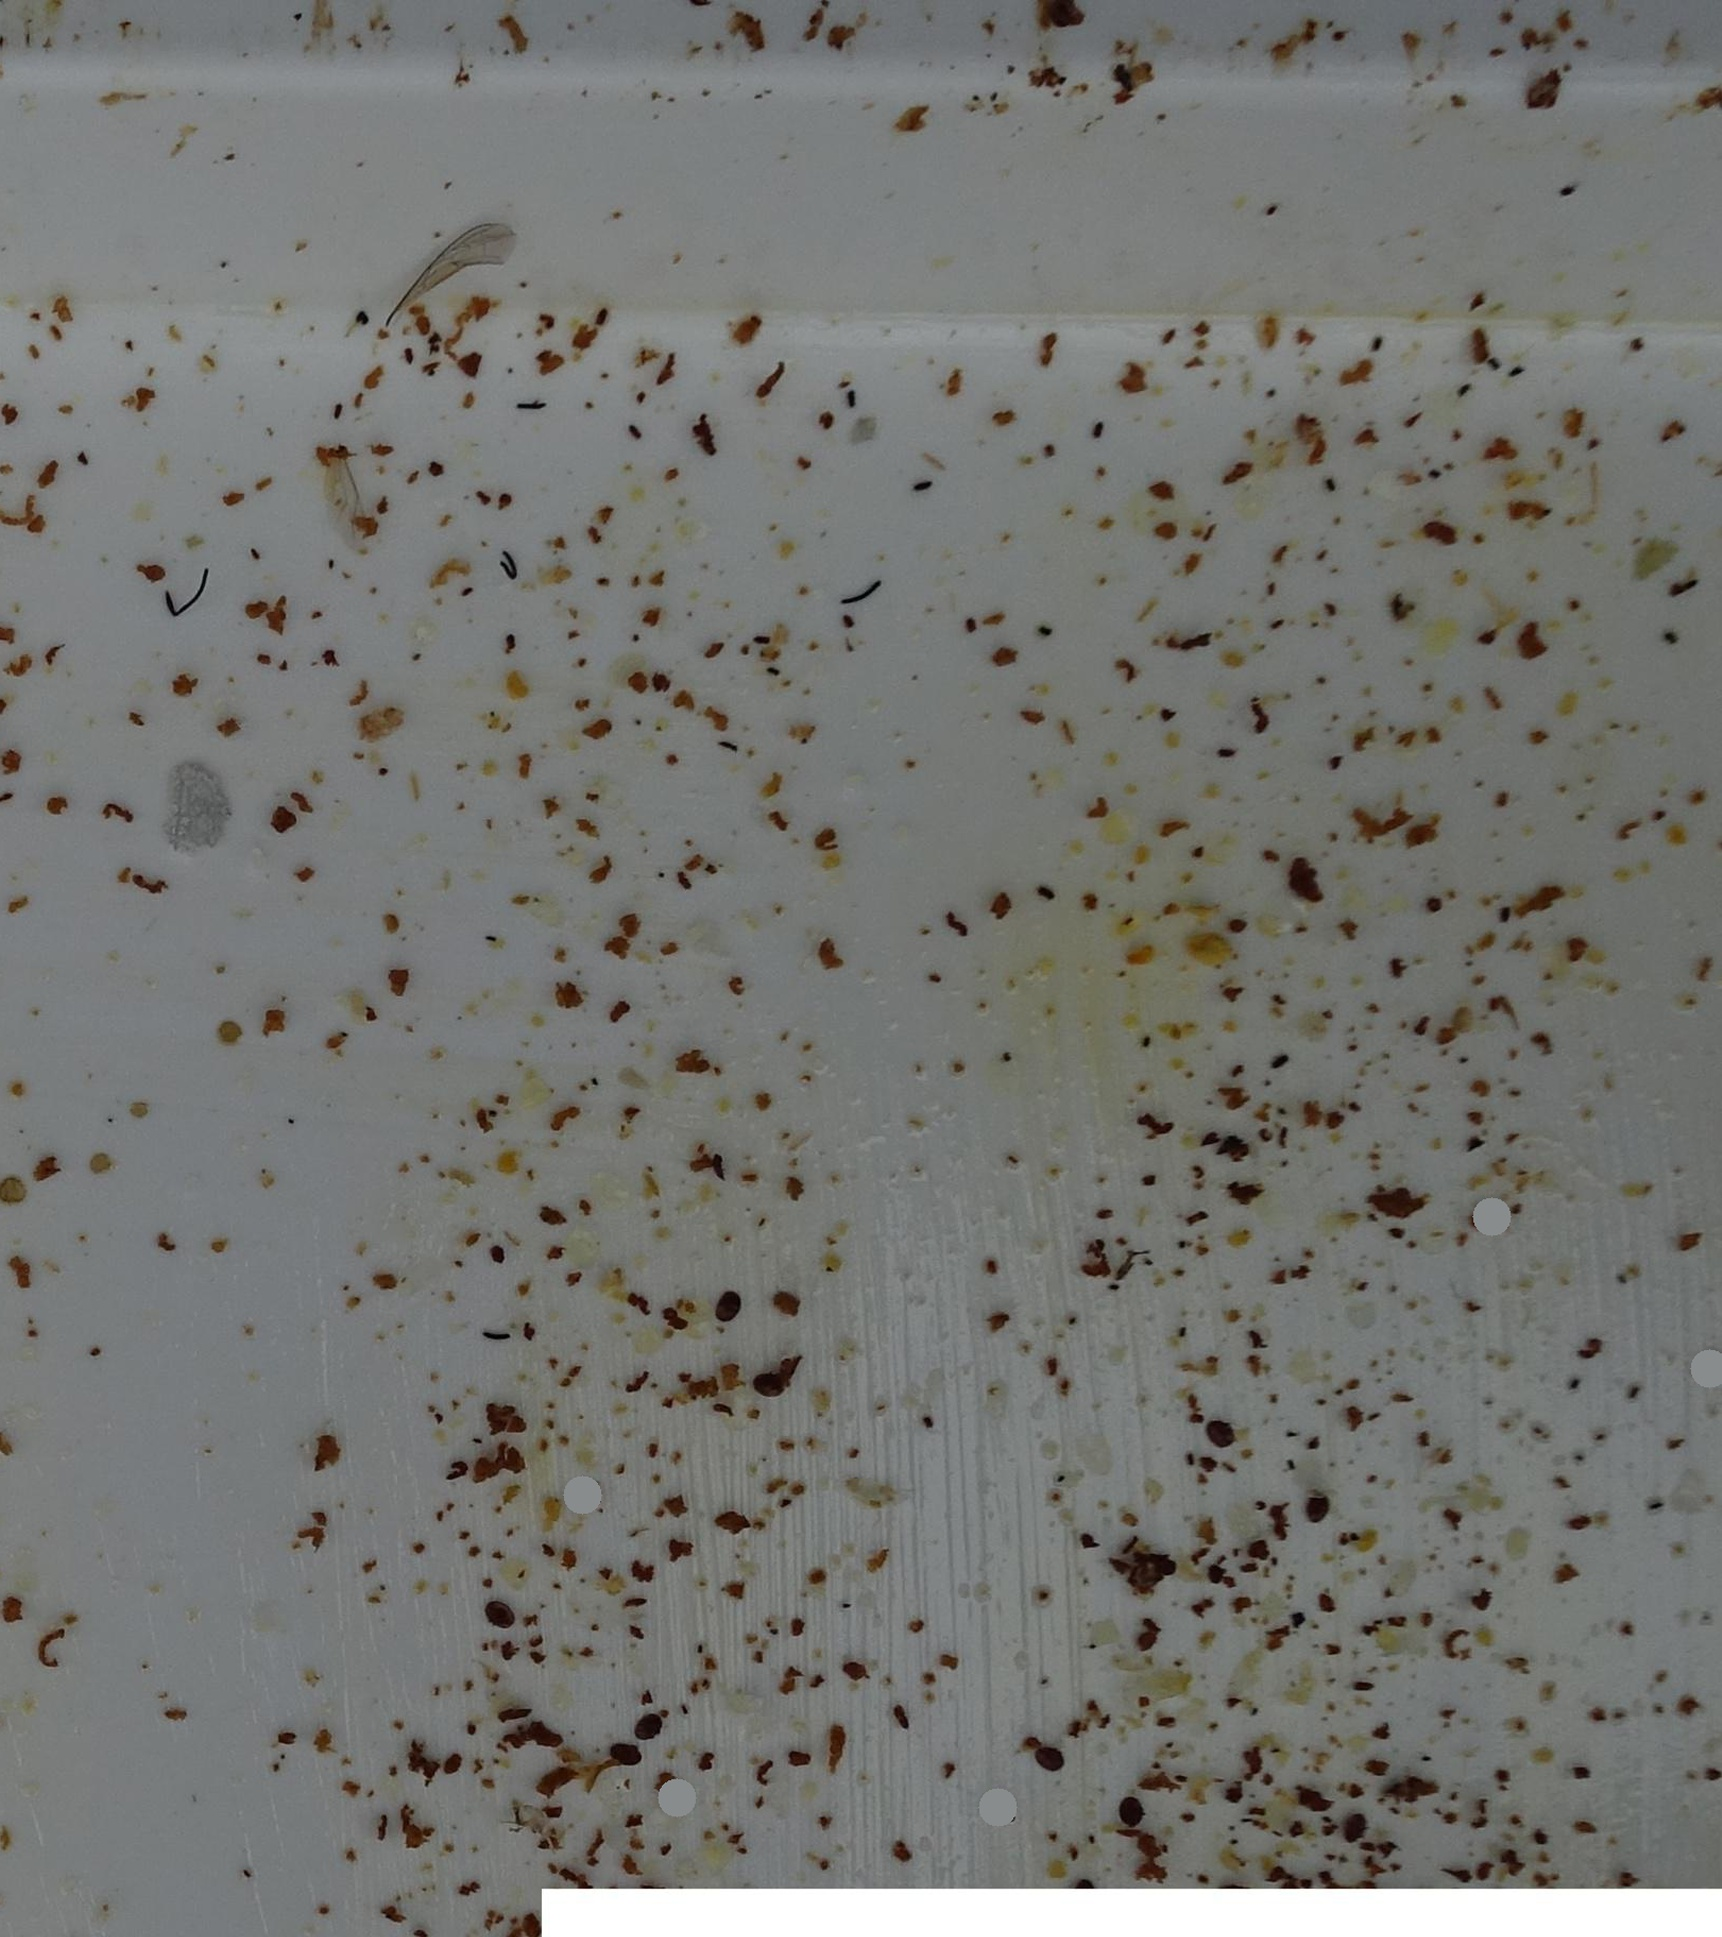Varroa: (723, 1289, 750, 1317), (1203, 1425, 1228, 1453), (756, 1365, 781, 1392), (608, 1744, 635, 1769), (1306, 1495, 1330, 1521), (637, 1713, 660, 1737), (1341, 1816, 1365, 1841), (1119, 1797, 1140, 1821), (490, 1608, 514, 1629), (1039, 1747, 1057, 1767), (715, 1300, 730, 1305)
